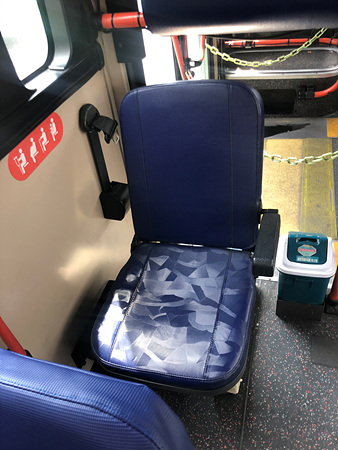seat: (92, 91, 259, 389)
